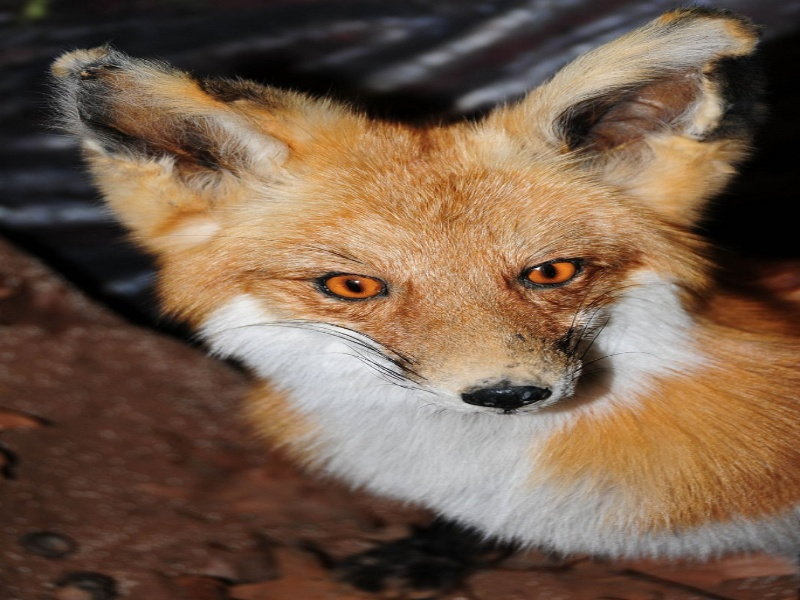fox: (42, 14, 800, 594)
